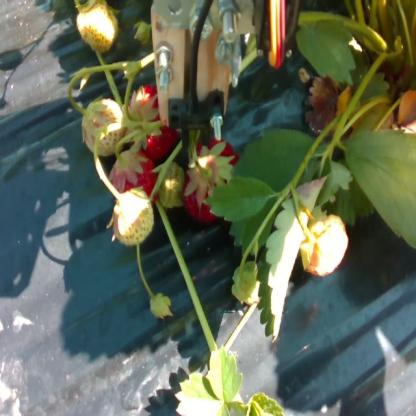ripe: (187, 145, 232, 214), (119, 152, 155, 198), (142, 121, 176, 154), (127, 89, 167, 115)
unripe: (111, 192, 155, 244), (80, 104, 124, 156), (304, 220, 343, 269), (77, 4, 119, 46)
